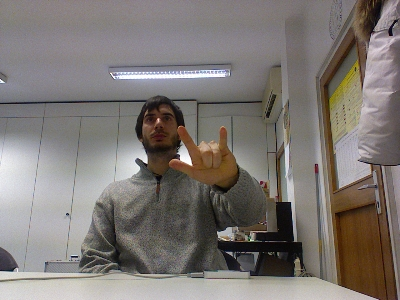我爱你: (167, 123, 239, 185)
